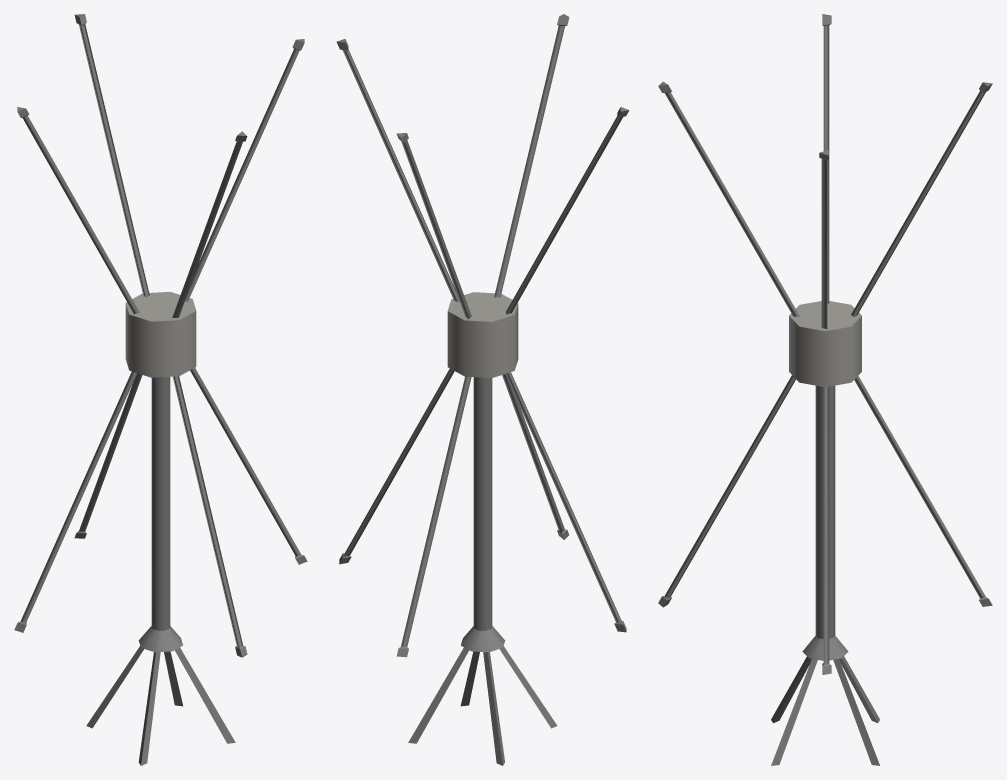
The model's file is antenna.DAE.
3 views of the same model, side by side, from view 1: azimuth 30°, elevation 25°; view 2: azimuth 150°, elevation 25°; view 3: azimuth 270°, elevation 25° (orthographic).
Parts seen in each view (by area): view 1: Cylinder01-Pivot; view 2: Cylinder01-Pivot; view 3: Cylinder01-Pivot.
Part boxes in pixels (<box>): Cylinder01-Pivot: <box>14,14,307,765</box>; Cylinder01-Pivot: <box>336,14,629,765</box>; Cylinder01-Pivot: <box>658,14,992,765</box>.
Size of what is drawn, in the model's own units: 0.4091 by 0.8889 by 0.4091.
